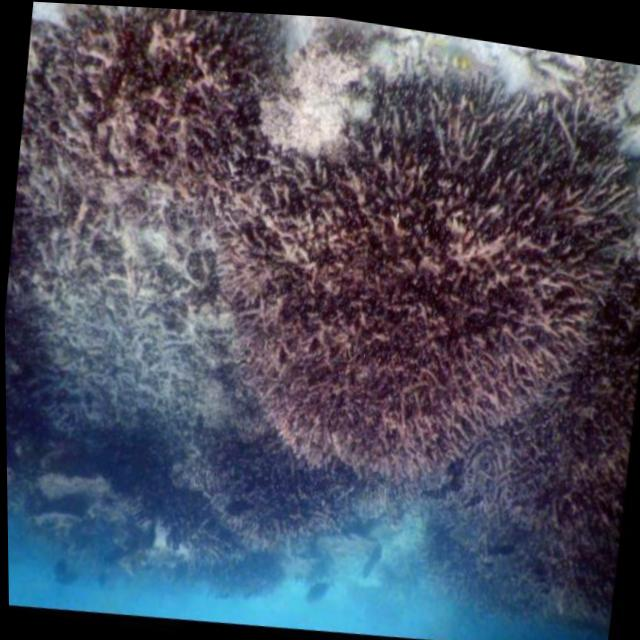Dead Coral: (189, 47, 640, 617), (10, 0, 312, 248)
